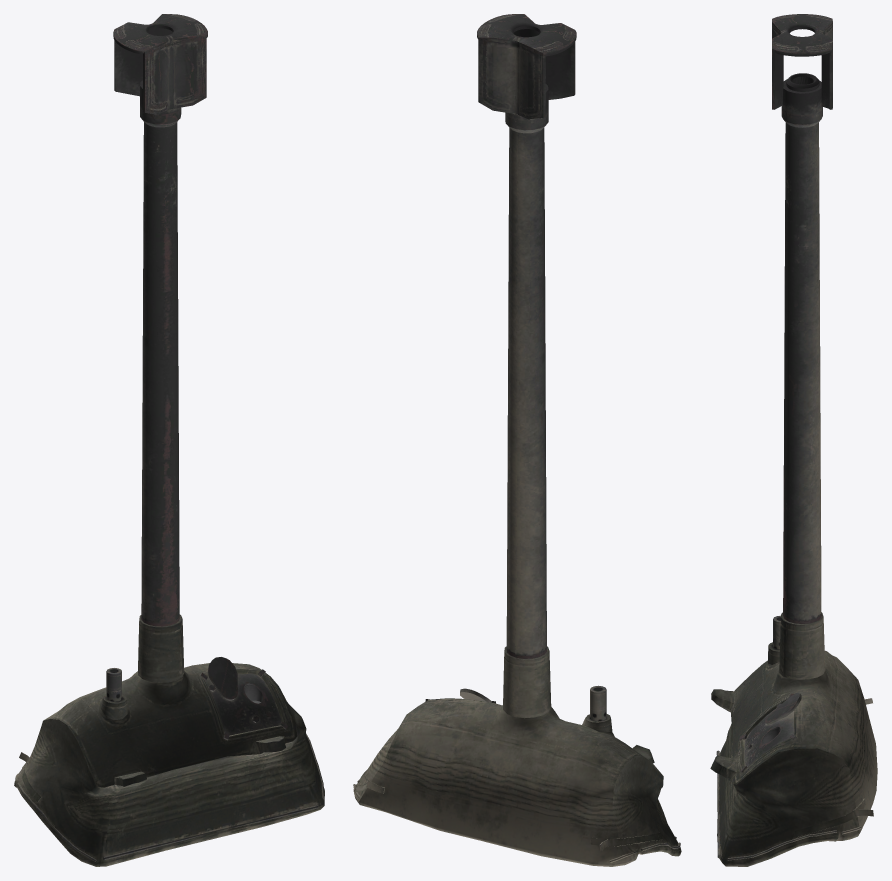
Rendered from Gun_01.glb.
The picture shows the model from 3 angles, left to right: view 1: azimuth 30°, elevation 25°; view 2: azimuth 150°, elevation 25°; view 3: azimuth 270°, elevation 25°; orthographic projection. The views are drawn at different scales.
Visible parts, largest first — view 1: set_0_group_0; view 2: set_0_group_0; view 3: set_0_group_0.
Part boxes in pixels (<box>): set_0_group_0: <box>14,14,324,866</box>; set_0_group_0: <box>353,14,681,866</box>; set_0_group_0: <box>710,14,877,866</box>.
Size of the model in its own units: 1.31 by 3.53 by 0.6872.
1 material, 1 textured.
